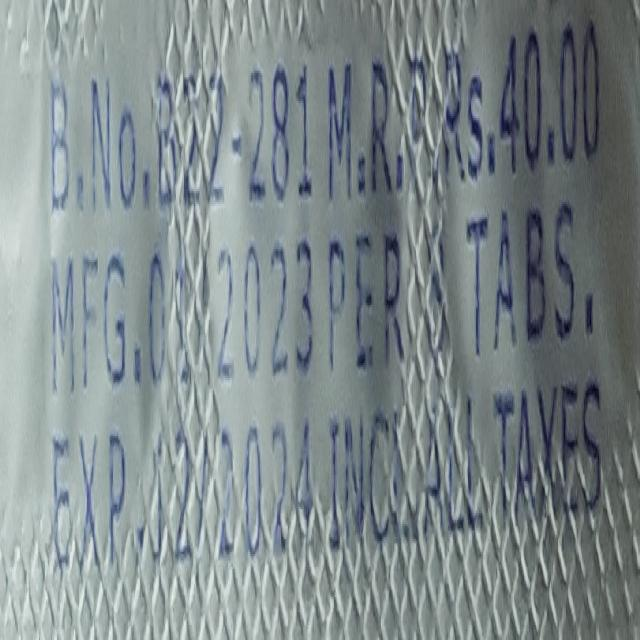sentence: (51, 177, 578, 393), (50, 12, 600, 213), (51, 377, 605, 572)
